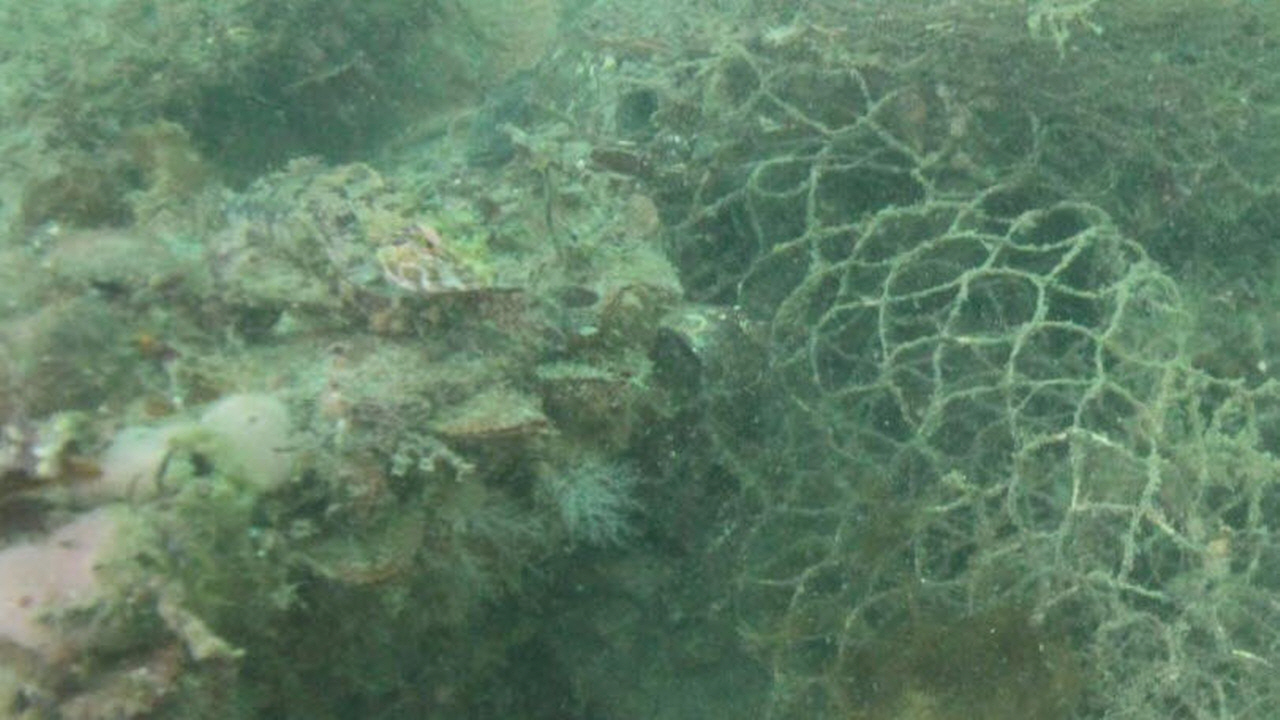fish net: (596, 0, 1280, 720)
